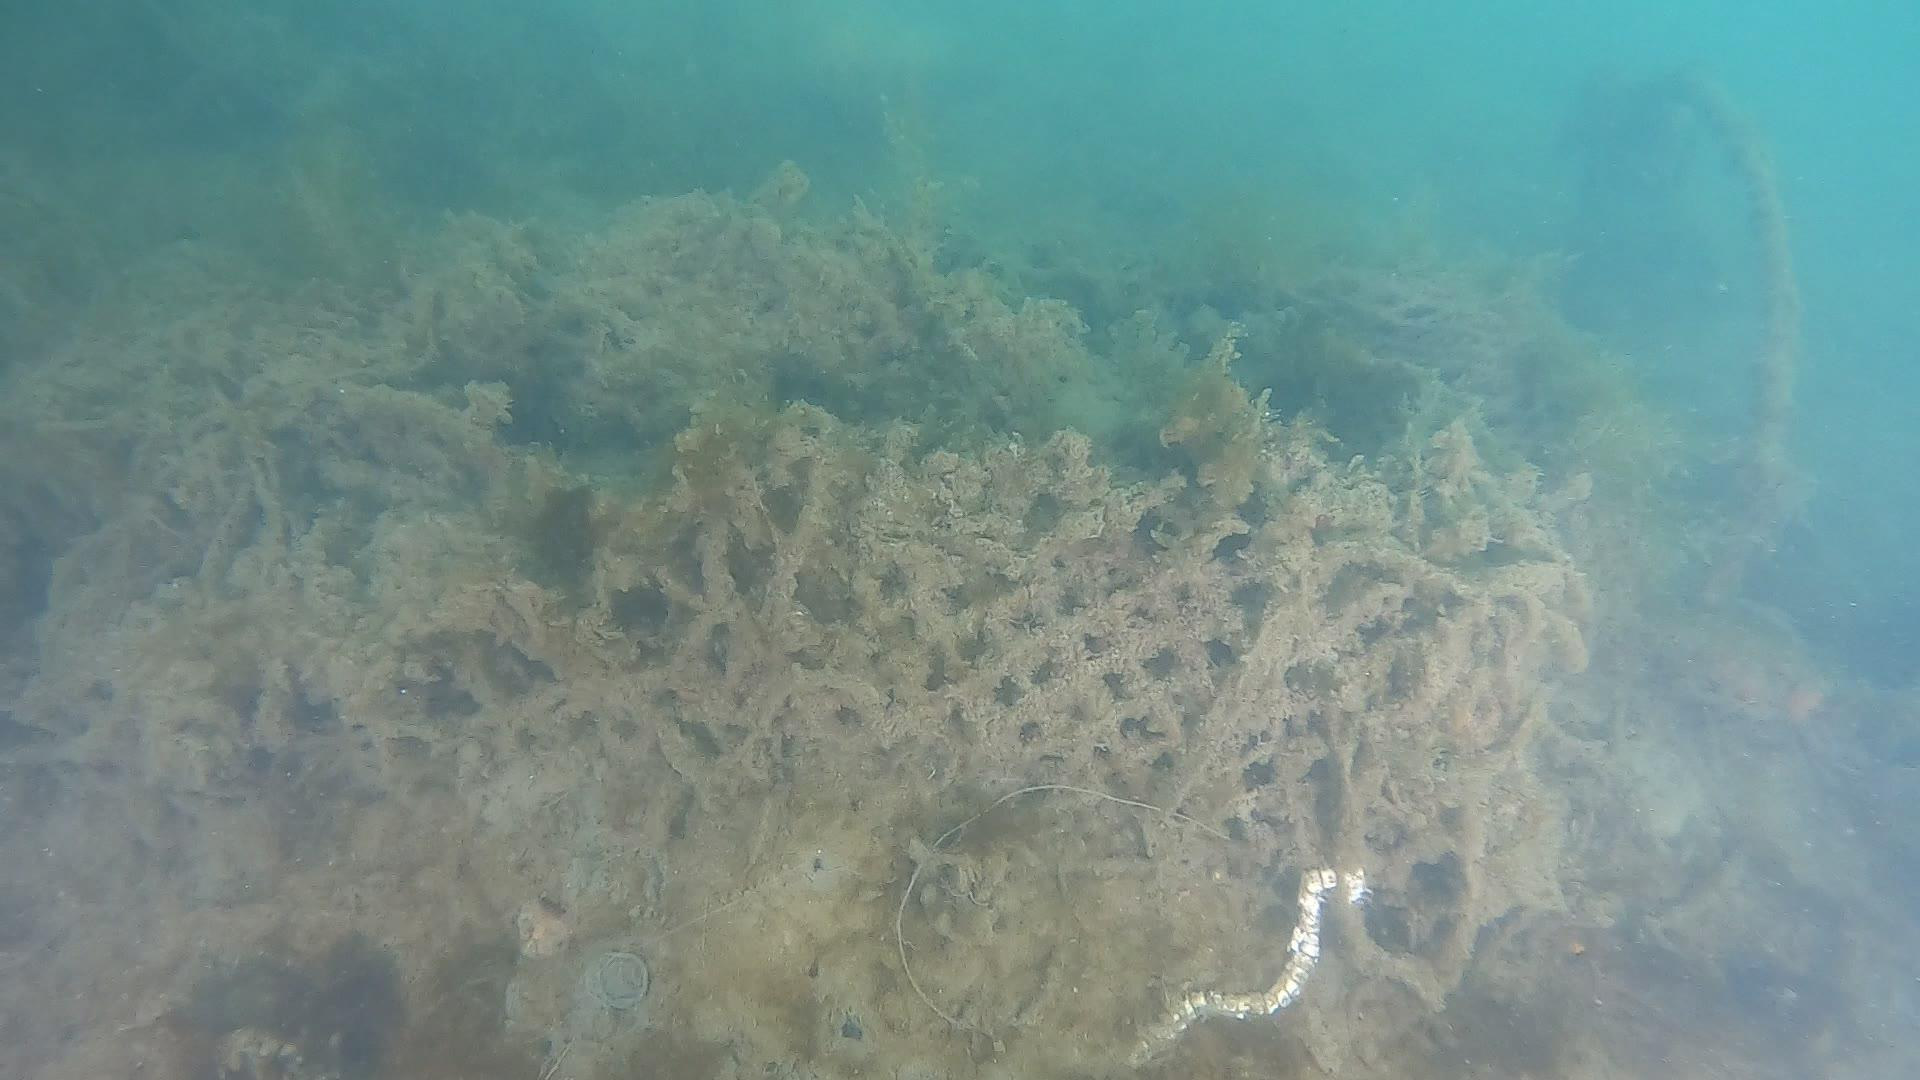fish net: (0, 199, 1596, 832)
